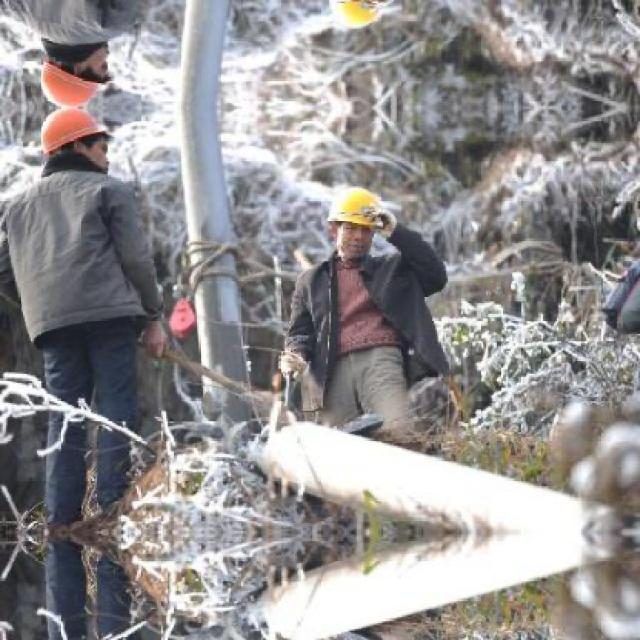helmet: (32, 106, 116, 176), (32, 38, 116, 108), (324, 182, 388, 260), (323, 0, 387, 32)
